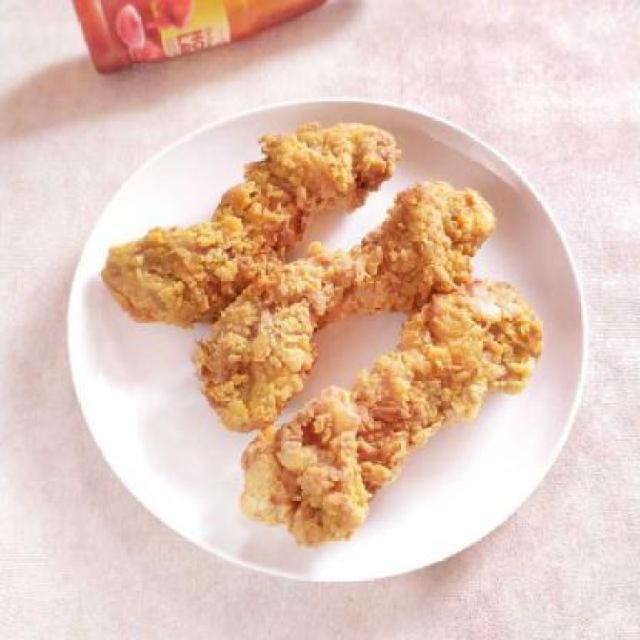Chicken -Fried Chicken-: (101, 124, 545, 548)
